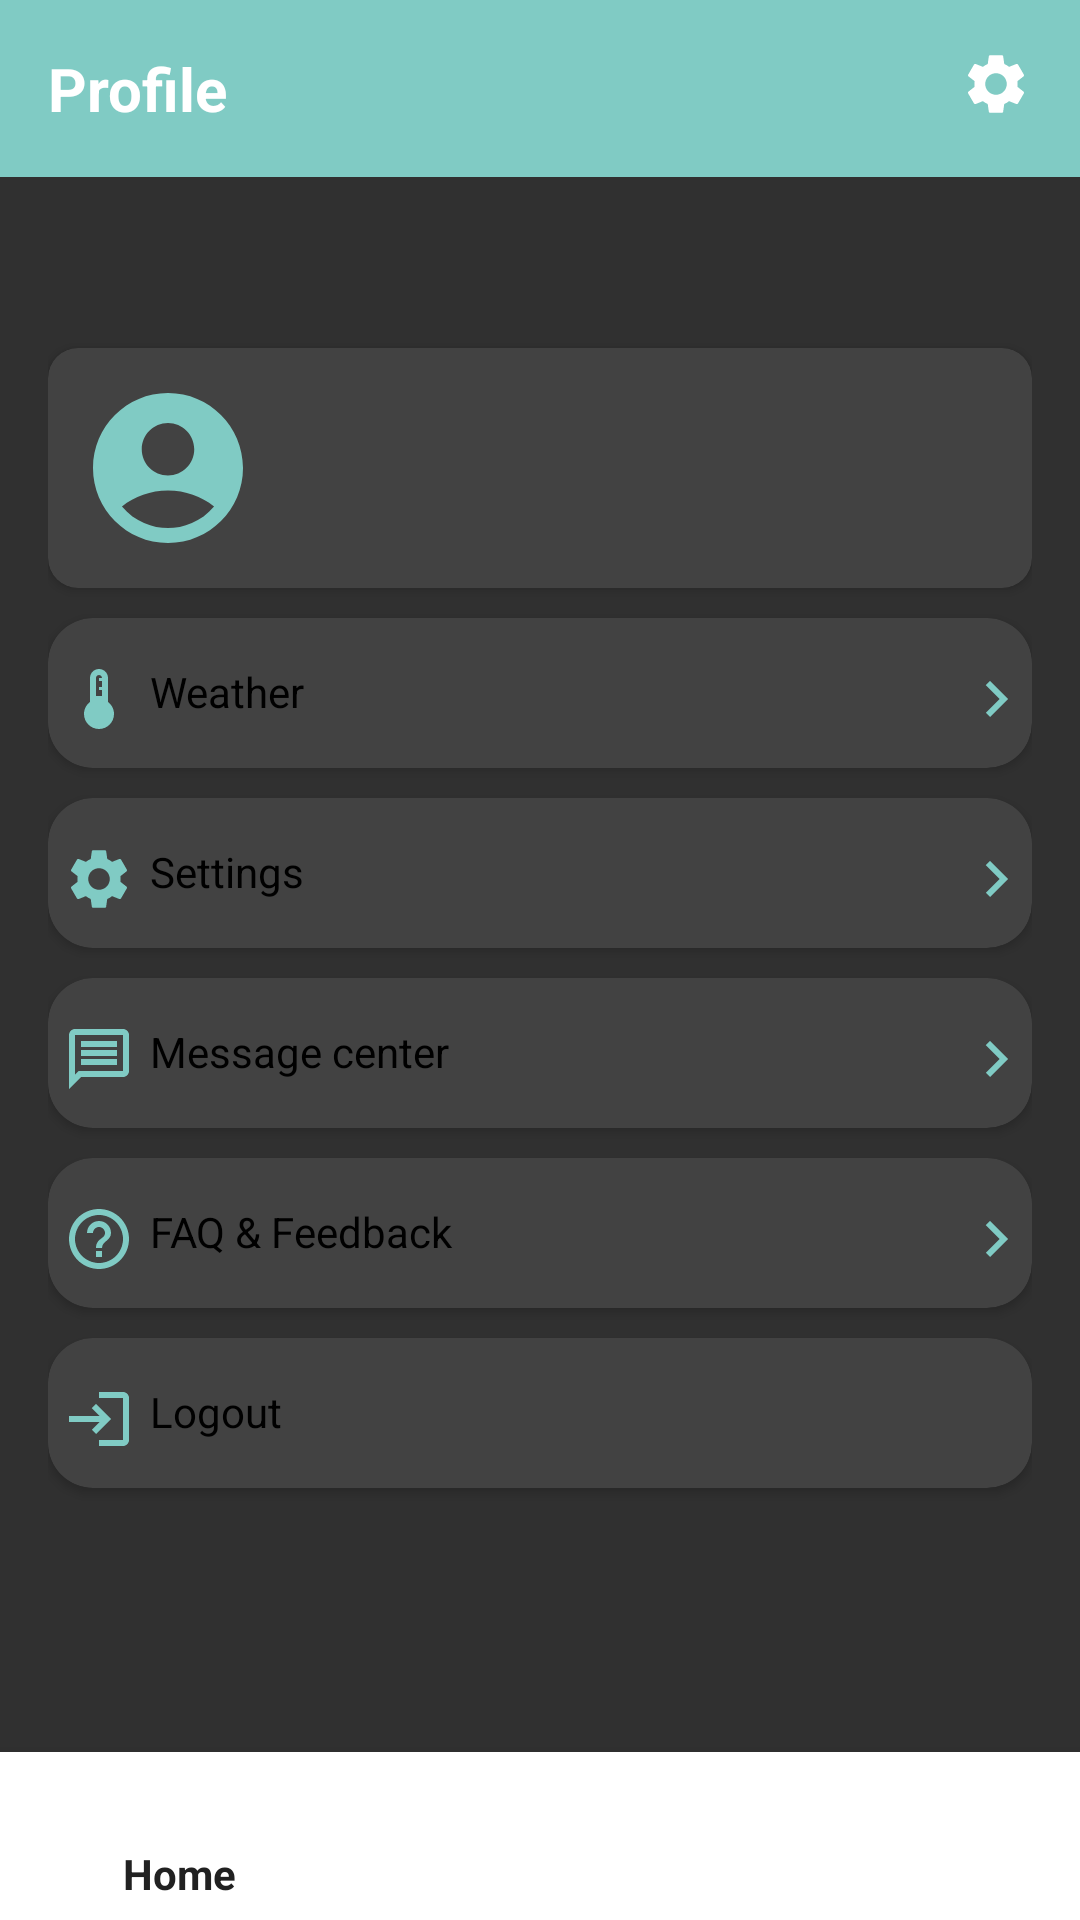

Where icons sit on this 1080px x 1920px app screen, as (x1,y1,x2,y2):
account circle: (93,393,243,543)
settings: (968,55,1024,113)
